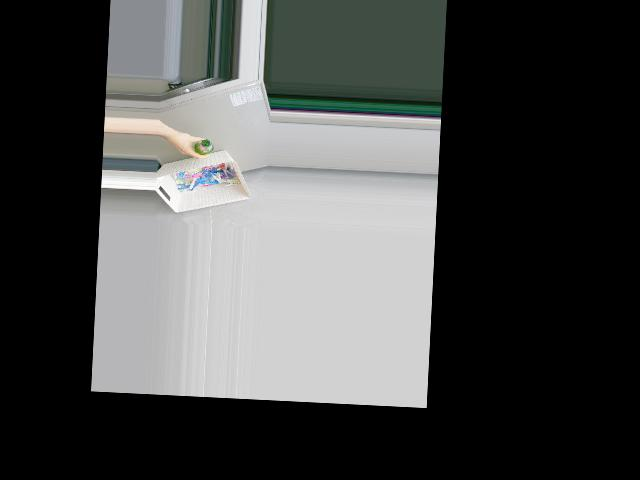beer: (193, 138, 214, 155)
